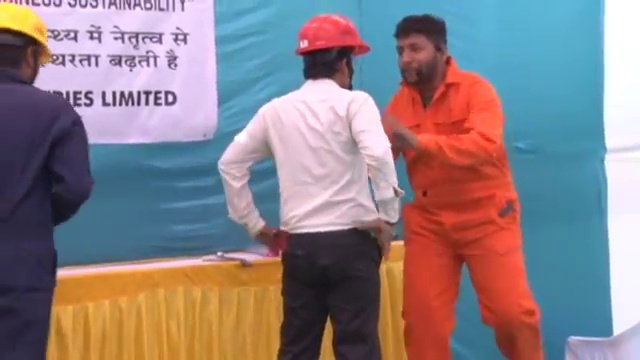helmet: (292, 11, 370, 55), (1, 1, 55, 63)
helmet_off: (393, 15, 450, 85)
helmet_on: (291, 11, 369, 91), (1, 1, 55, 90)
person: (218, 10, 402, 360), (381, 14, 549, 360), (1, 1, 96, 355)
